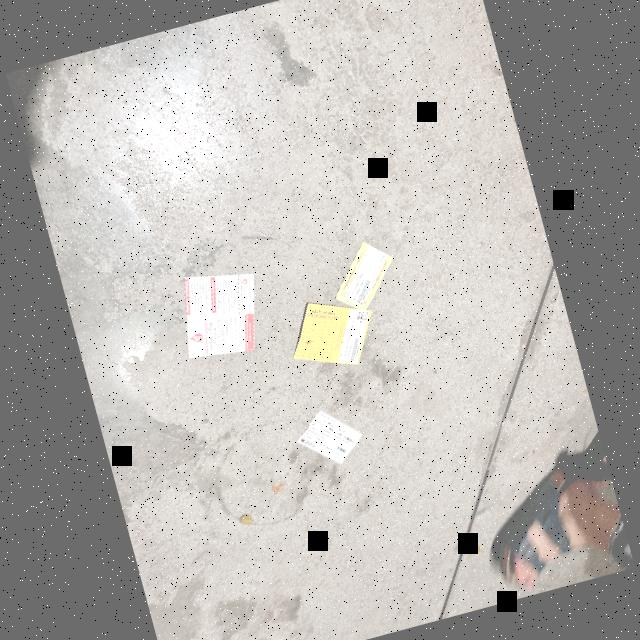scrap_paper: (163, 254, 274, 372), (276, 282, 390, 384), (324, 236, 406, 320), (290, 399, 368, 472)
